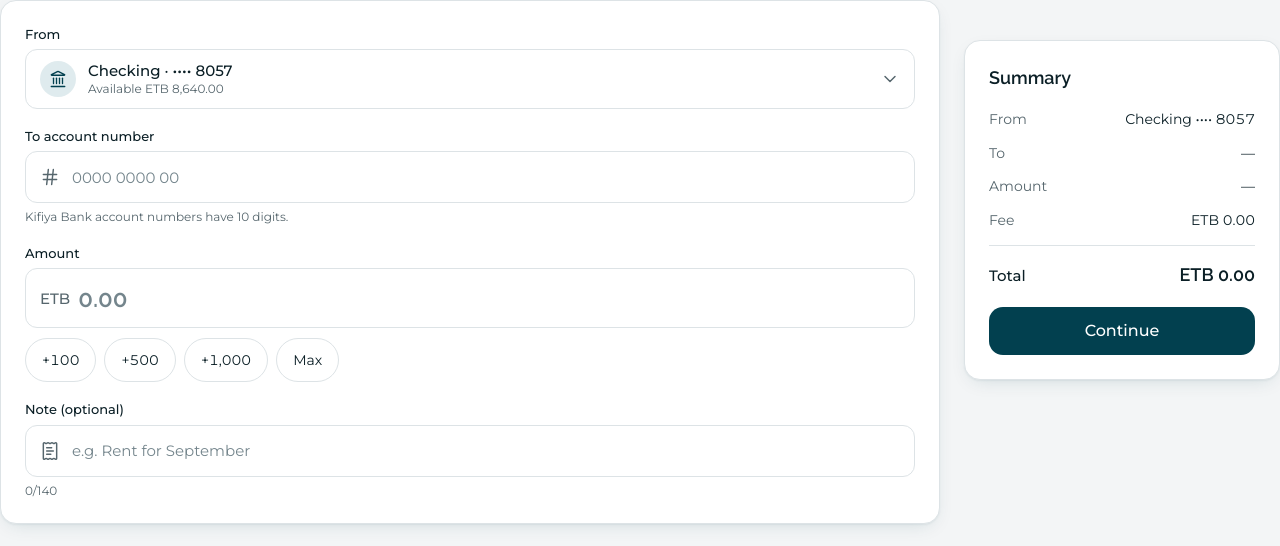
Test case: TransferForm › adds the quick amounts in cents, and Max uses the balance
The width and height of the screenshot is (1280, 546).
Type "0.10" into the field named "Amount in ETB". click: (489,298)
box: [78,282,900,315]
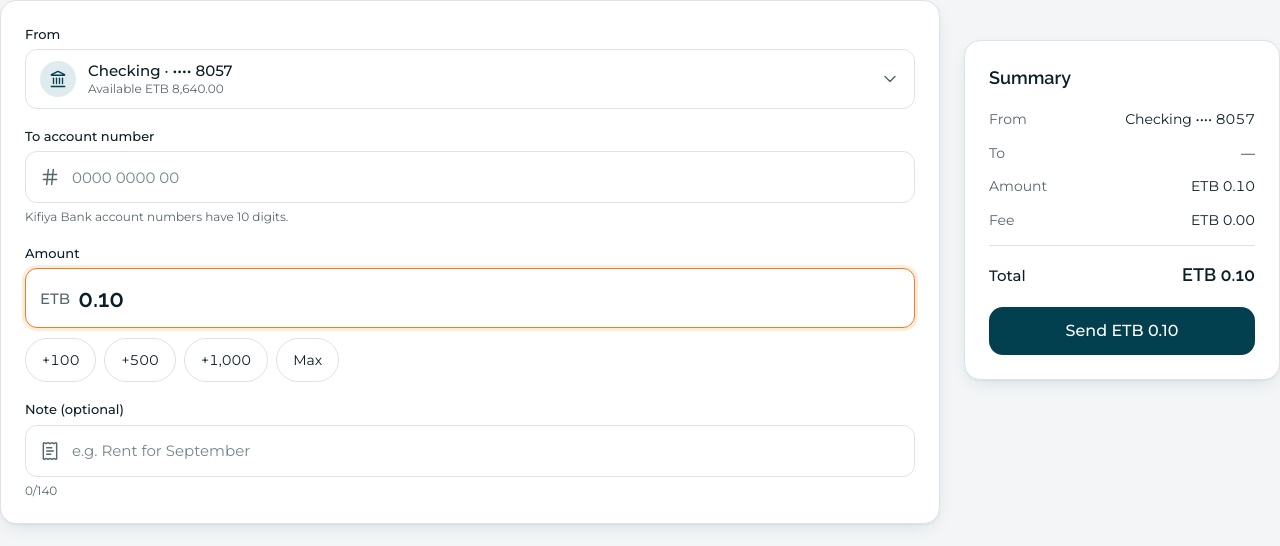
Click the button "+100". click: (61,360)
box: [25,338,96,382]
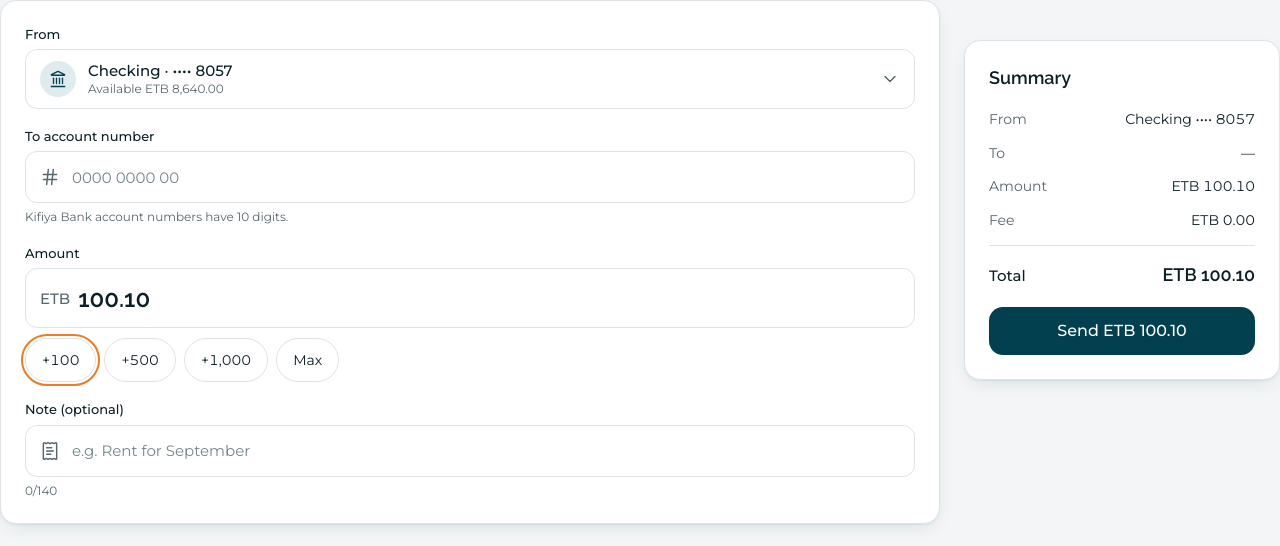
Click the button "+1,000". click: (226,360)
box: [184,338,268,382]
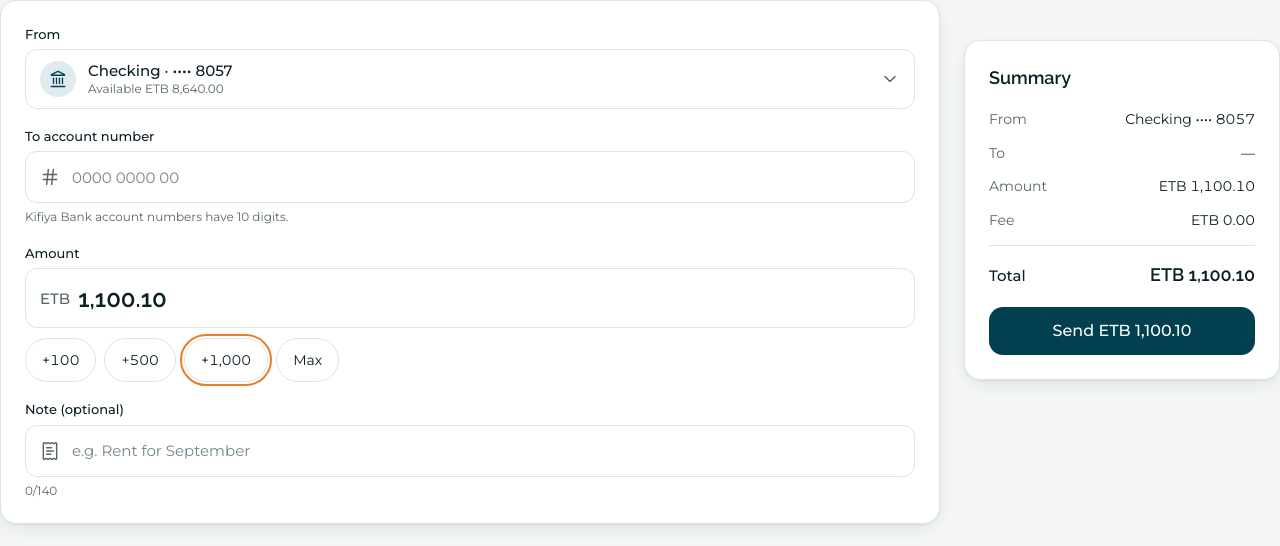
Expected: the field named "Amount in ETB" holds "1,100.10", [78,282,900,315]
Click the button "Max". click: (308,360)
box: [276,338,339,382]
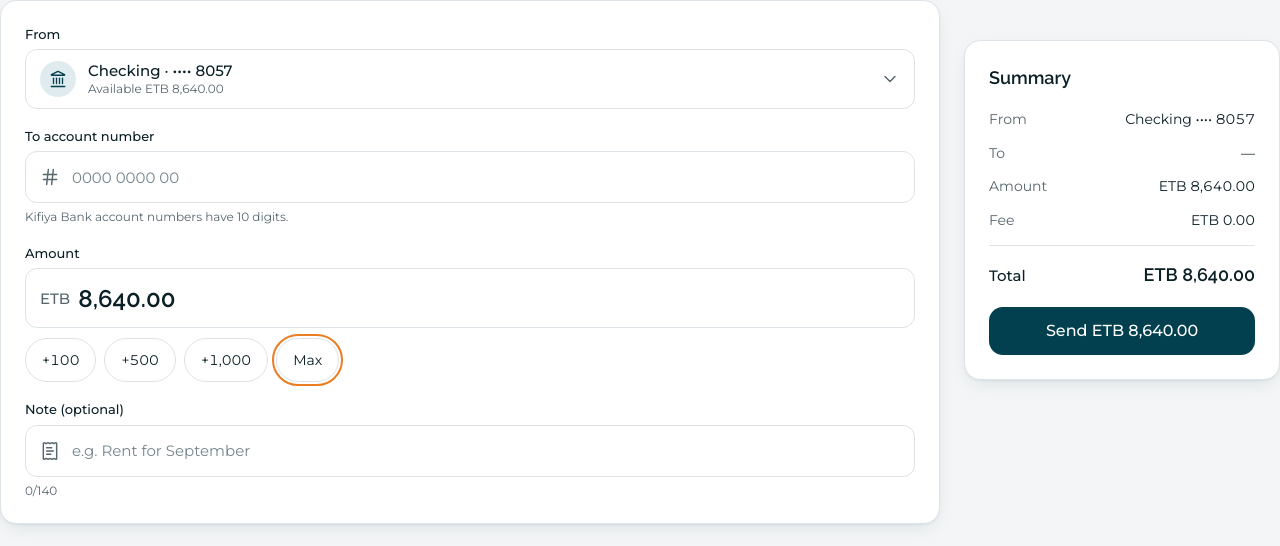
Expected: the field named "Amount in ETB" holds "8,640.00", [78,282,900,315]
